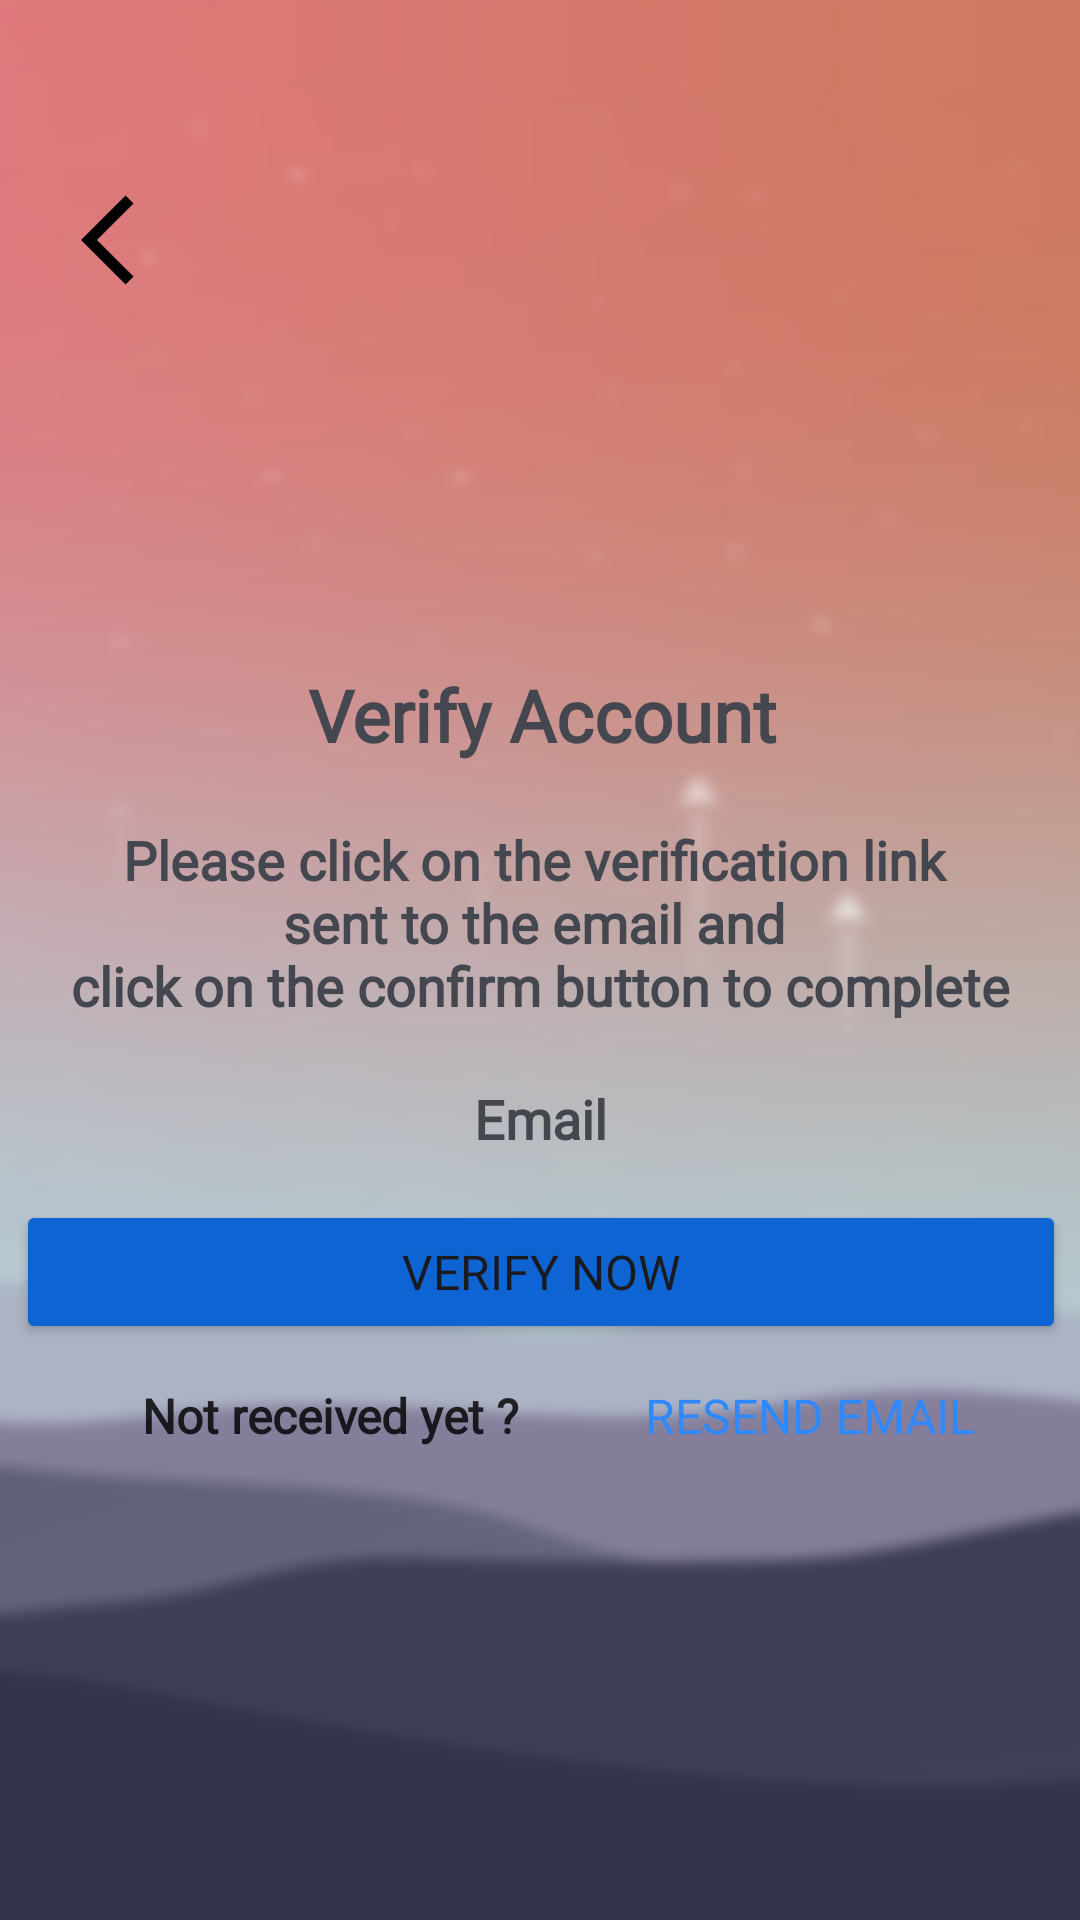

Locate icon controls on the screen. Image size 1080*1920, boxes as [x1=x1, y1=y1, x2=x2, y2=y2].
arrow back: [x1=81, y1=195, x2=134, y2=285]
